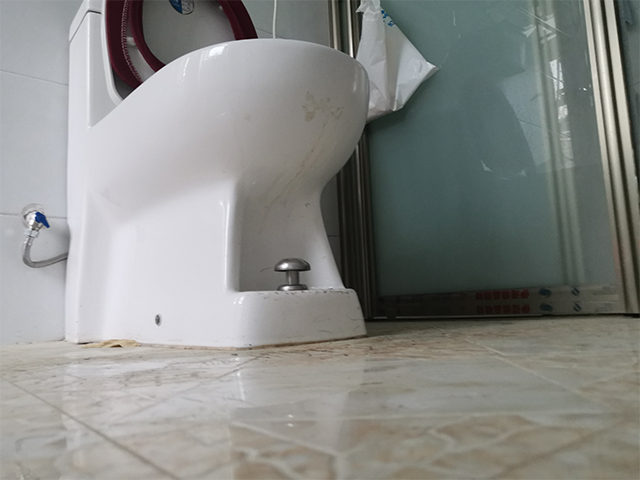closestool: (62, 1, 373, 351)
